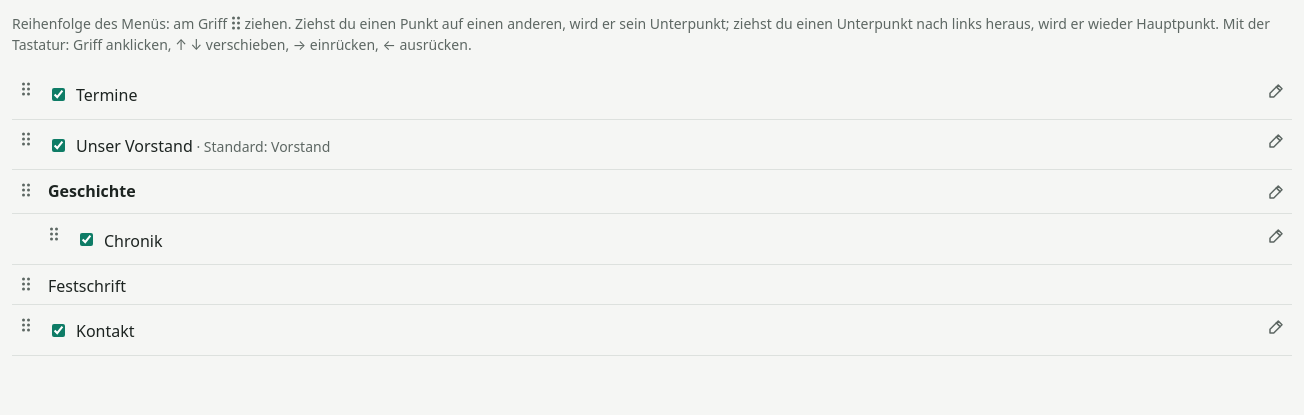
Test: Bausteine umbenennen (Ralf 01.11.) › zeigt den eigenen Namen und ändert ihn über den Stift
Check: the text "Unser Vorstand" is shown, box [76,135,193,157]
Check: the text "· Standard: Vorstand" is shown, box [193,137,330,156]
Click the button named "Termine umbenennen": (1276, 91) [1260,75,1292,107]
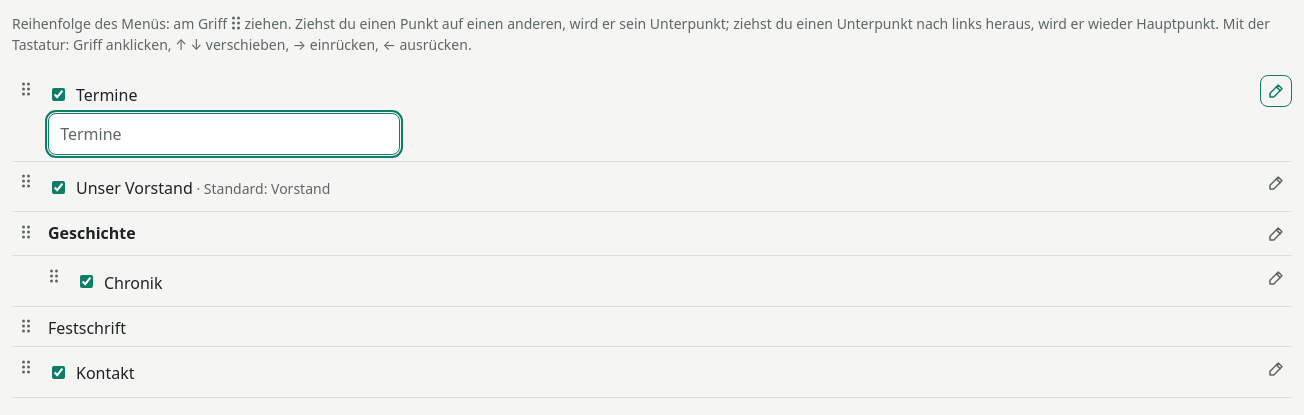
Check: the text "Termine" is shown, box [76,83,137,107]
In the field named "Eigener Name für Termine": (224, 134) [48,113,400,155], type "Feste"
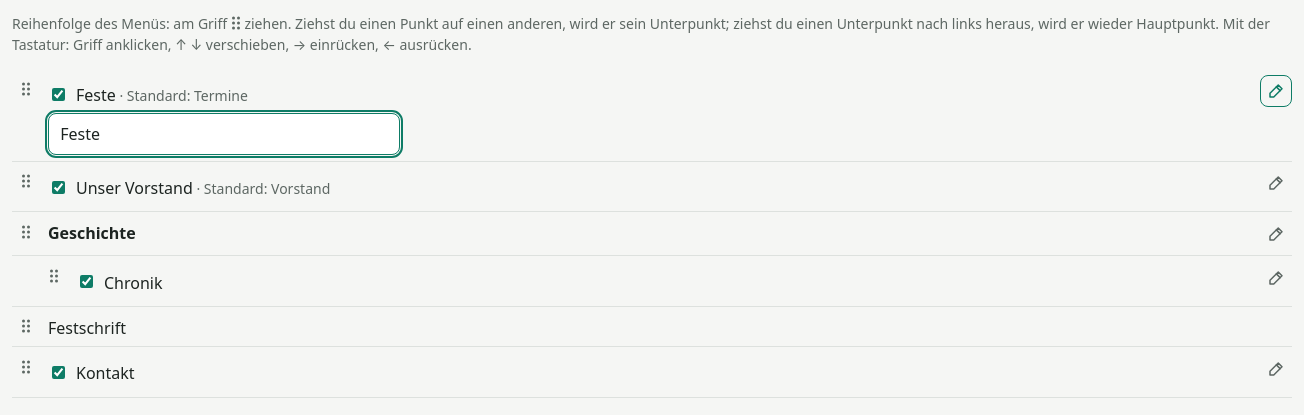
Press Enter in the field named "Eigener Name für Termine", box [48,113,400,155]
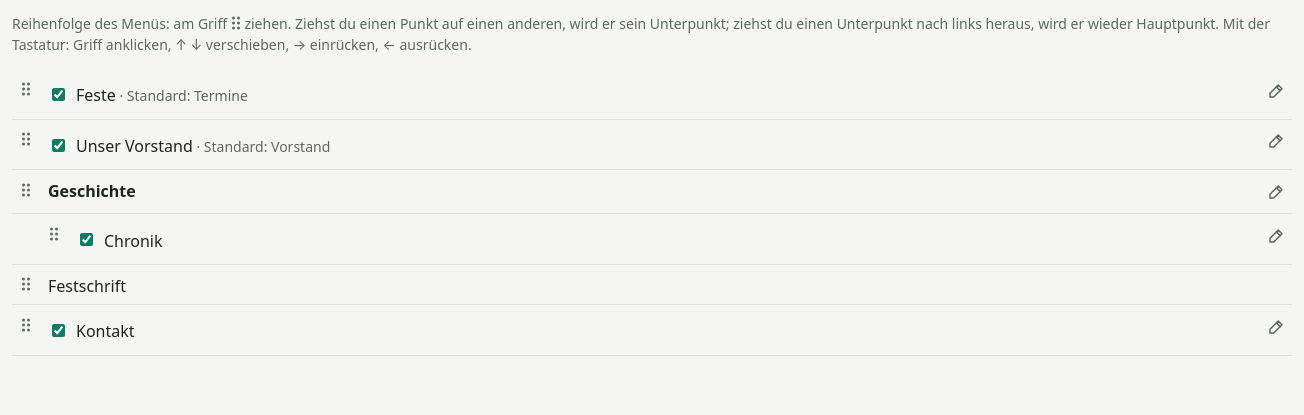
Check: the text "Feste" is shown, box [76,84,116,106]
Check: the field is gone
